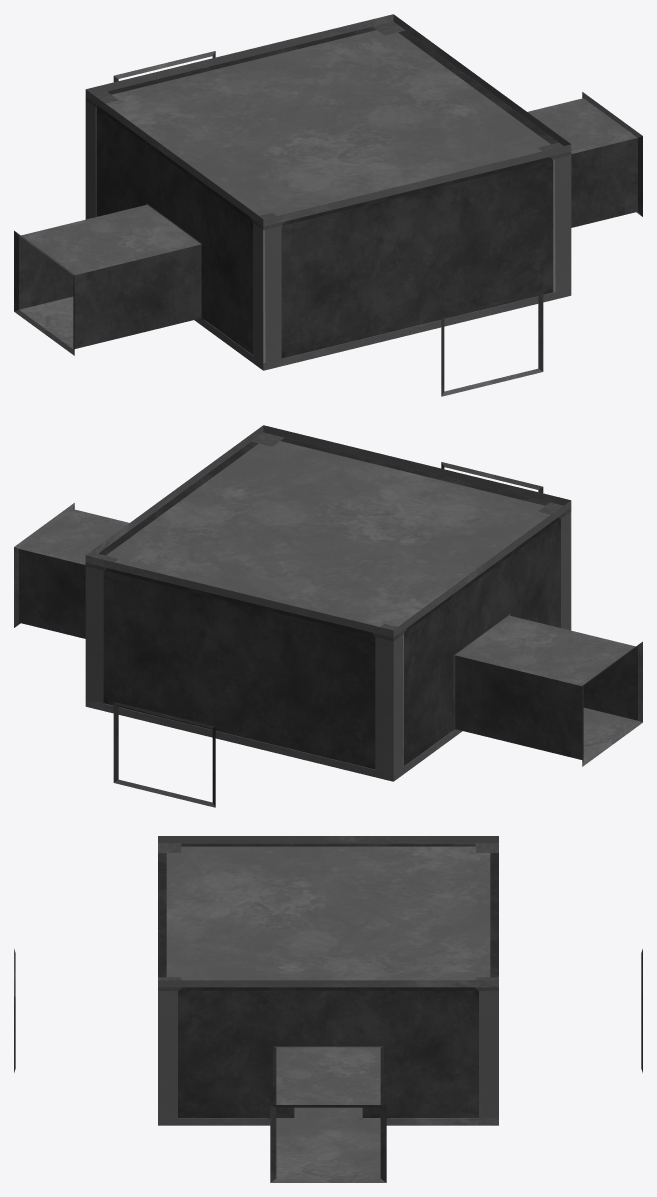
The model's file is Room_Exit_2.fbx.
The picture shows the model from 3 angles, top to bottom: view 1: azimuth 30°, elevation 25°; view 2: azimuth 150°, elevation 25°; view 3: azimuth 270°, elevation 25°; orthographic projection. The views are drawn at different scales.
Visible parts, largest first — view 1: Room_Exit_2_V5; view 2: Room_Exit_2_V5; view 3: Room_Exit_2_V5.
Part boxes in pixels (x1,y1,x2,y2): Room_Exit_2_V5: (14,14,642,396); Room_Exit_2_V5: (14,425,642,807); Room_Exit_2_V5: (14,836,642,1182).
Size of the model in its own units: 80.56 by 20.5 by 80.43.
